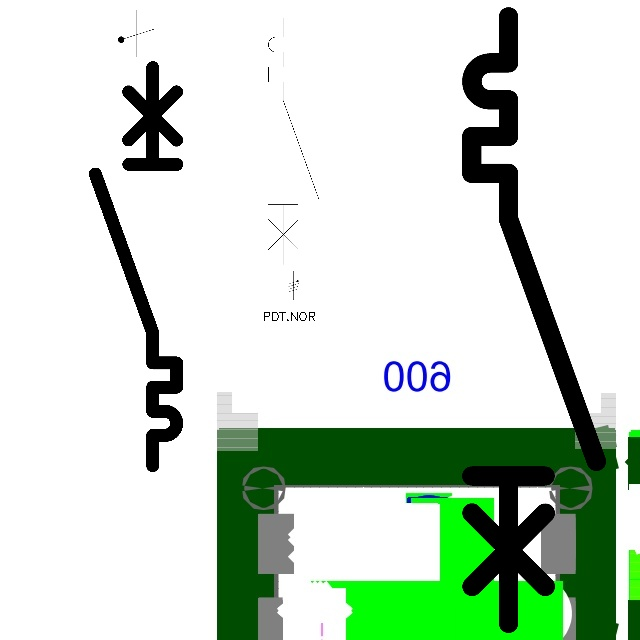interruptor_termomagnetico: (456, 1, 612, 639), (85, 57, 187, 476), (262, 12, 325, 271)
